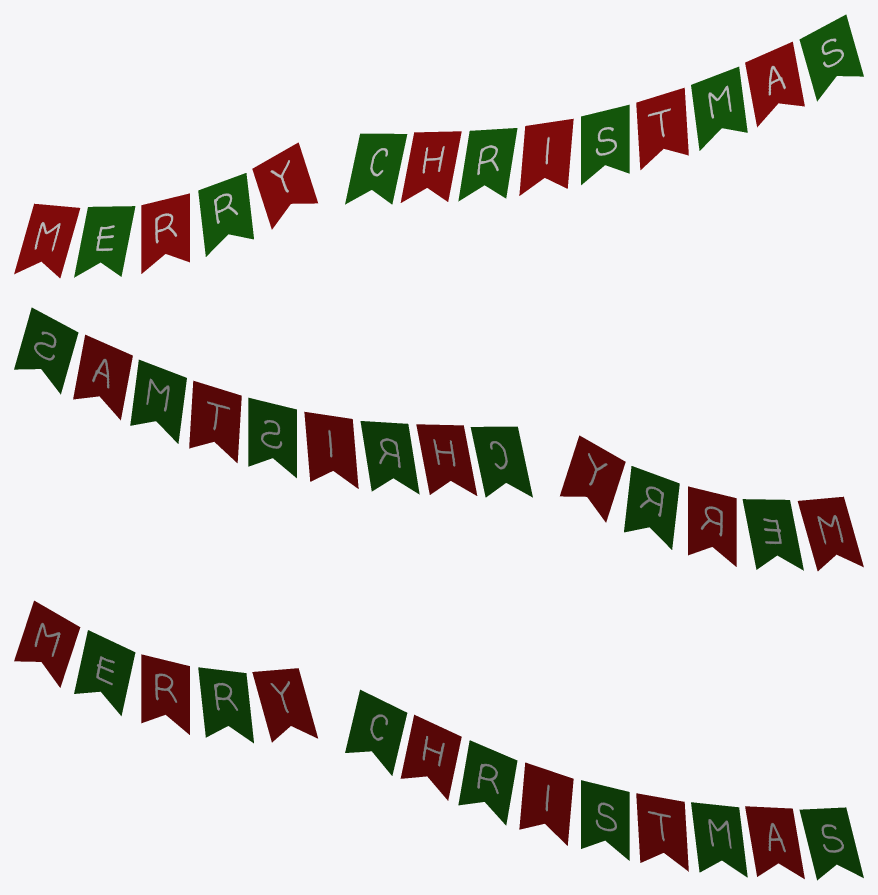
Rendered from Garender.FBX.
The picture shows the model from 3 angles, top to bottom: view 1: azimuth 30°, elevation 25°; view 2: azimuth 150°, elevation 25°; view 3: azimuth 330°, elevation 25°; orthographic projection.
Visible parts, largest first — view 1: Plane011, Plane003; view 2: Plane011, Plane003; view 3: Plane011, Plane003.
Boxes of the visible parts, x1=… form: Plane011: x1=345, y1=14, x2=863, y2=204; Plane003: x1=14, y1=142, x2=317, y2=277; Plane011: x1=14, y1=307, x2=532, y2=497; Plane003: x1=560, y1=435, x2=863, y2=570; Plane011: x1=345, y1=689, x2=863, y2=880; Plane003: x1=14, y1=600, x2=317, y2=743.
Bounding box in the file's own units: 993 × 3.19e-05 × 129.
